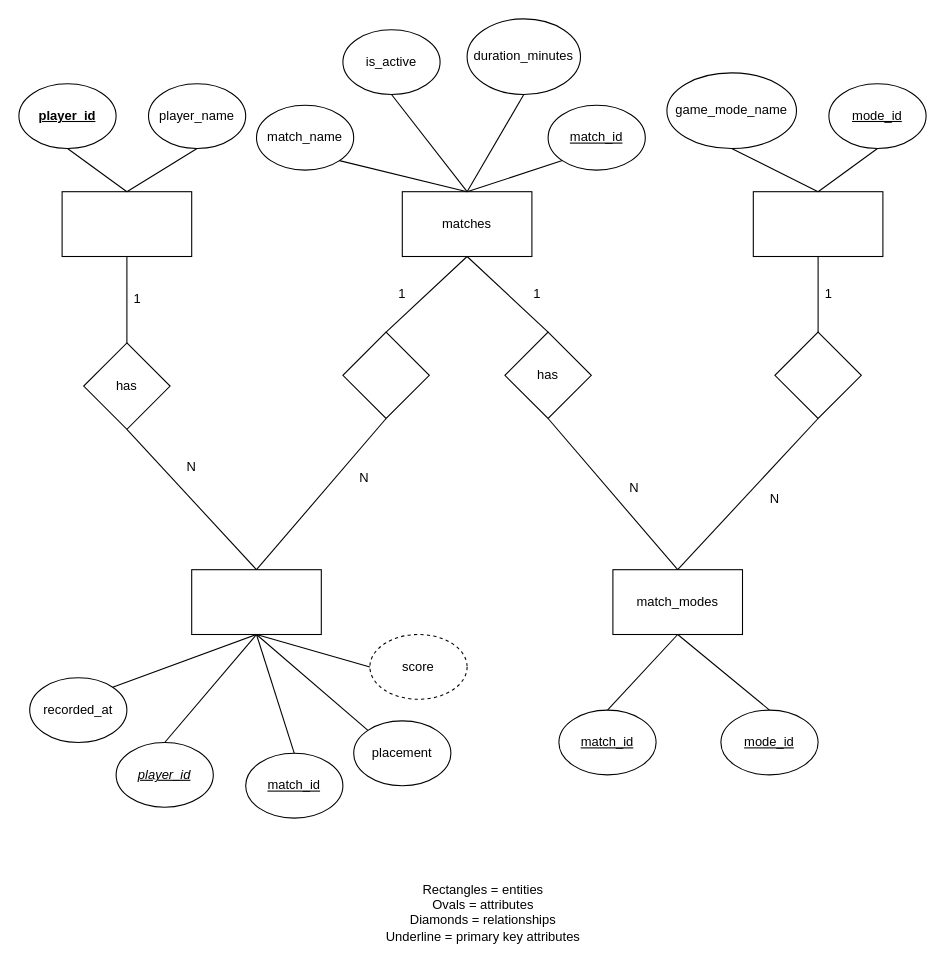
Some shapes in this 945 by 978 pixel diagram are drawn without their labels. The shapes that lost their labels are listed below. From the top down, each one's centre as x and y in pixels, then its label:
(x=126, y=223): players
(x=817, y=223): game_modes
(x=385, y=374): includes
(x=817, y=374): appears in
(x=256, y=601): match_participants
